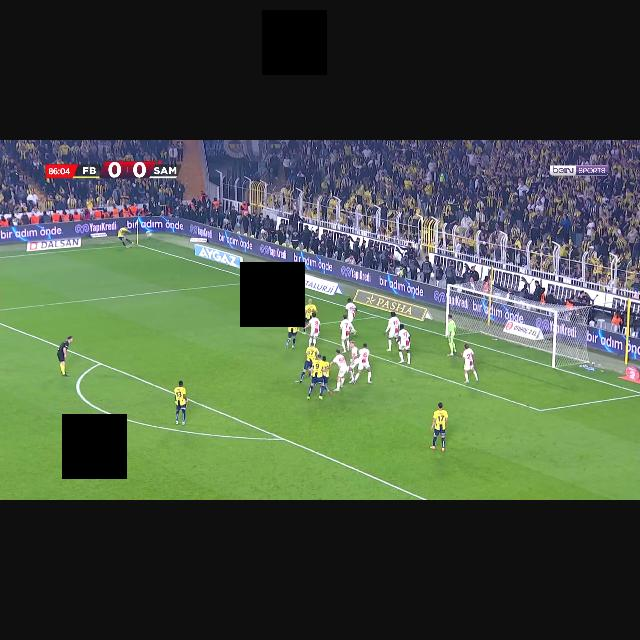billboard: (0, 217, 639, 360), (259, 263, 342, 295), (353, 289, 432, 321), (194, 244, 249, 268), (503, 320, 543, 340), (26, 238, 81, 251)
